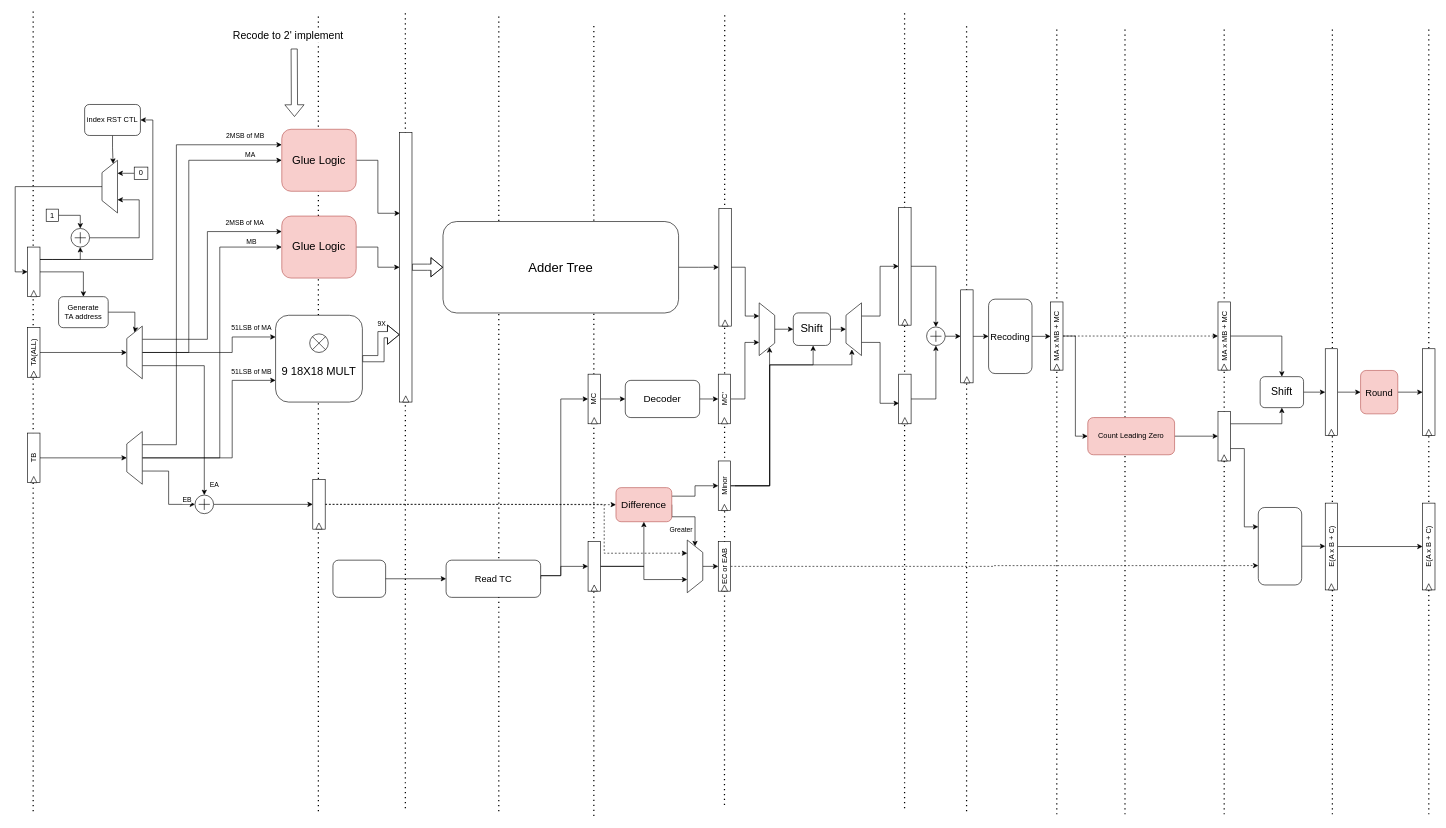
Some shapes in this 1446 by 828 pixel diagram are drawn without their labels. The shapes that lost their labels are listed below. From the top down, each one's box as (x1, y1, x2, y2) in pixels, then its label:
(27, 246, 40, 297): index
(399, 132, 412, 402): 11 Partial Product
(718, 208, 731, 326): MA x MB
(898, 207, 911, 325): S(MA x MB)
(960, 289, 973, 383): S(MA x MB) + S(MC')
(898, 374, 911, 424): S(MC')
(1325, 348, 1338, 436): S(MA x MB + MC)
(1422, 348, 1435, 436): M(A x B + C)
(1217, 411, 1230, 461): Shift time
(312, 479, 325, 529): EAB
(587, 541, 600, 591): EC
(1258, 507, 1302, 585): Substract
(332, 560, 386, 597): Read Req
